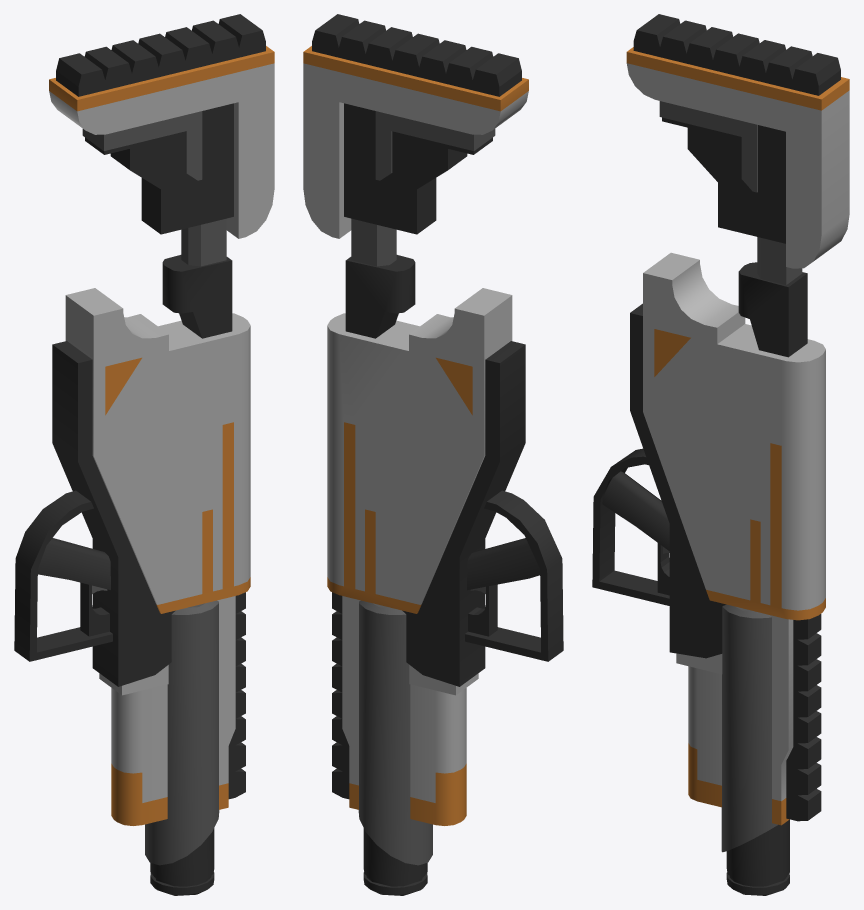
File: qg-grenade-2-lod1.glb
The picture shows the model from 3 angles, left to right: view 1: azimuth 30°, elevation 25°; view 2: azimuth 150°, elevation 25°; view 3: azimuth 330°, elevation 25°; orthographic projection.
Parts seen in each view (by area): view 1: WeaponMesh_qg-grenade-2_Grenade_1; view 2: WeaponMesh_qg-grenade-2_Grenade_1; view 3: WeaponMesh_qg-grenade-2_Grenade_1.
Part boxes in pixels (bbox=[...]): WeaponMesh_qg-grenade-2_Grenade_1: bbox=[14, 14, 274, 895]; WeaponMesh_qg-grenade-2_Grenade_1: bbox=[303, 14, 563, 895]; WeaponMesh_qg-grenade-2_Grenade_1: bbox=[592, 14, 849, 895].
Size of the model in its own units: 0.124 by 0.42 by 0.0339.
